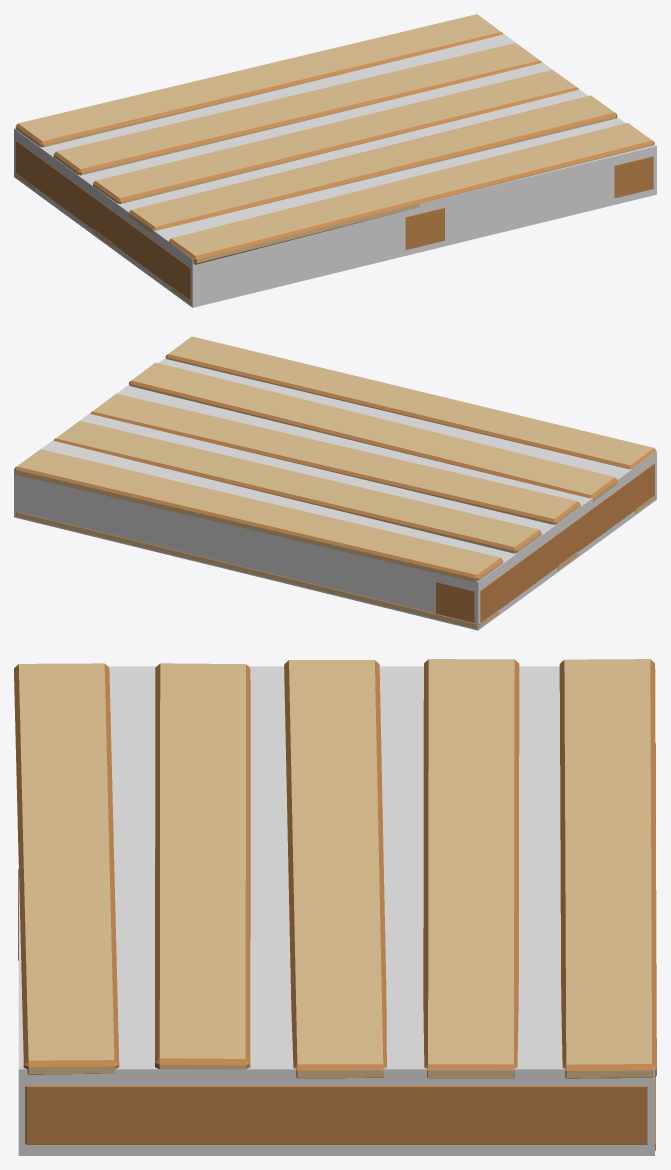
The model's file is prop_pallet_a.glb.
3 views of the same model, one above another, from view 1: azimuth 30°, elevation 25°; view 2: azimuth 150°, elevation 25°; view 3: azimuth 270°, elevation 25° (orthographic). The views are drawn at different scales.
Visible parts, largest first — view 1: prop_pallet_a, COL_prop_pallet_a_1; view 2: prop_pallet_a, COL_prop_pallet_a_1; view 3: prop_pallet_a, COL_prop_pallet_a_1.
Boxes of the visible parts, x1,y1,x2,y2 form: prop_pallet_a: [14, 14, 654, 304]; COL_prop_pallet_a_1: [14, 33, 656, 307]; prop_pallet_a: [14, 336, 656, 628]; COL_prop_pallet_a_1: [14, 358, 656, 630]; prop_pallet_a: [14, 659, 656, 1150]; COL_prop_pallet_a_1: [18, 666, 654, 1155].
Size of the model in its own units: 1.2 by 0.1345 by 0.8087.
